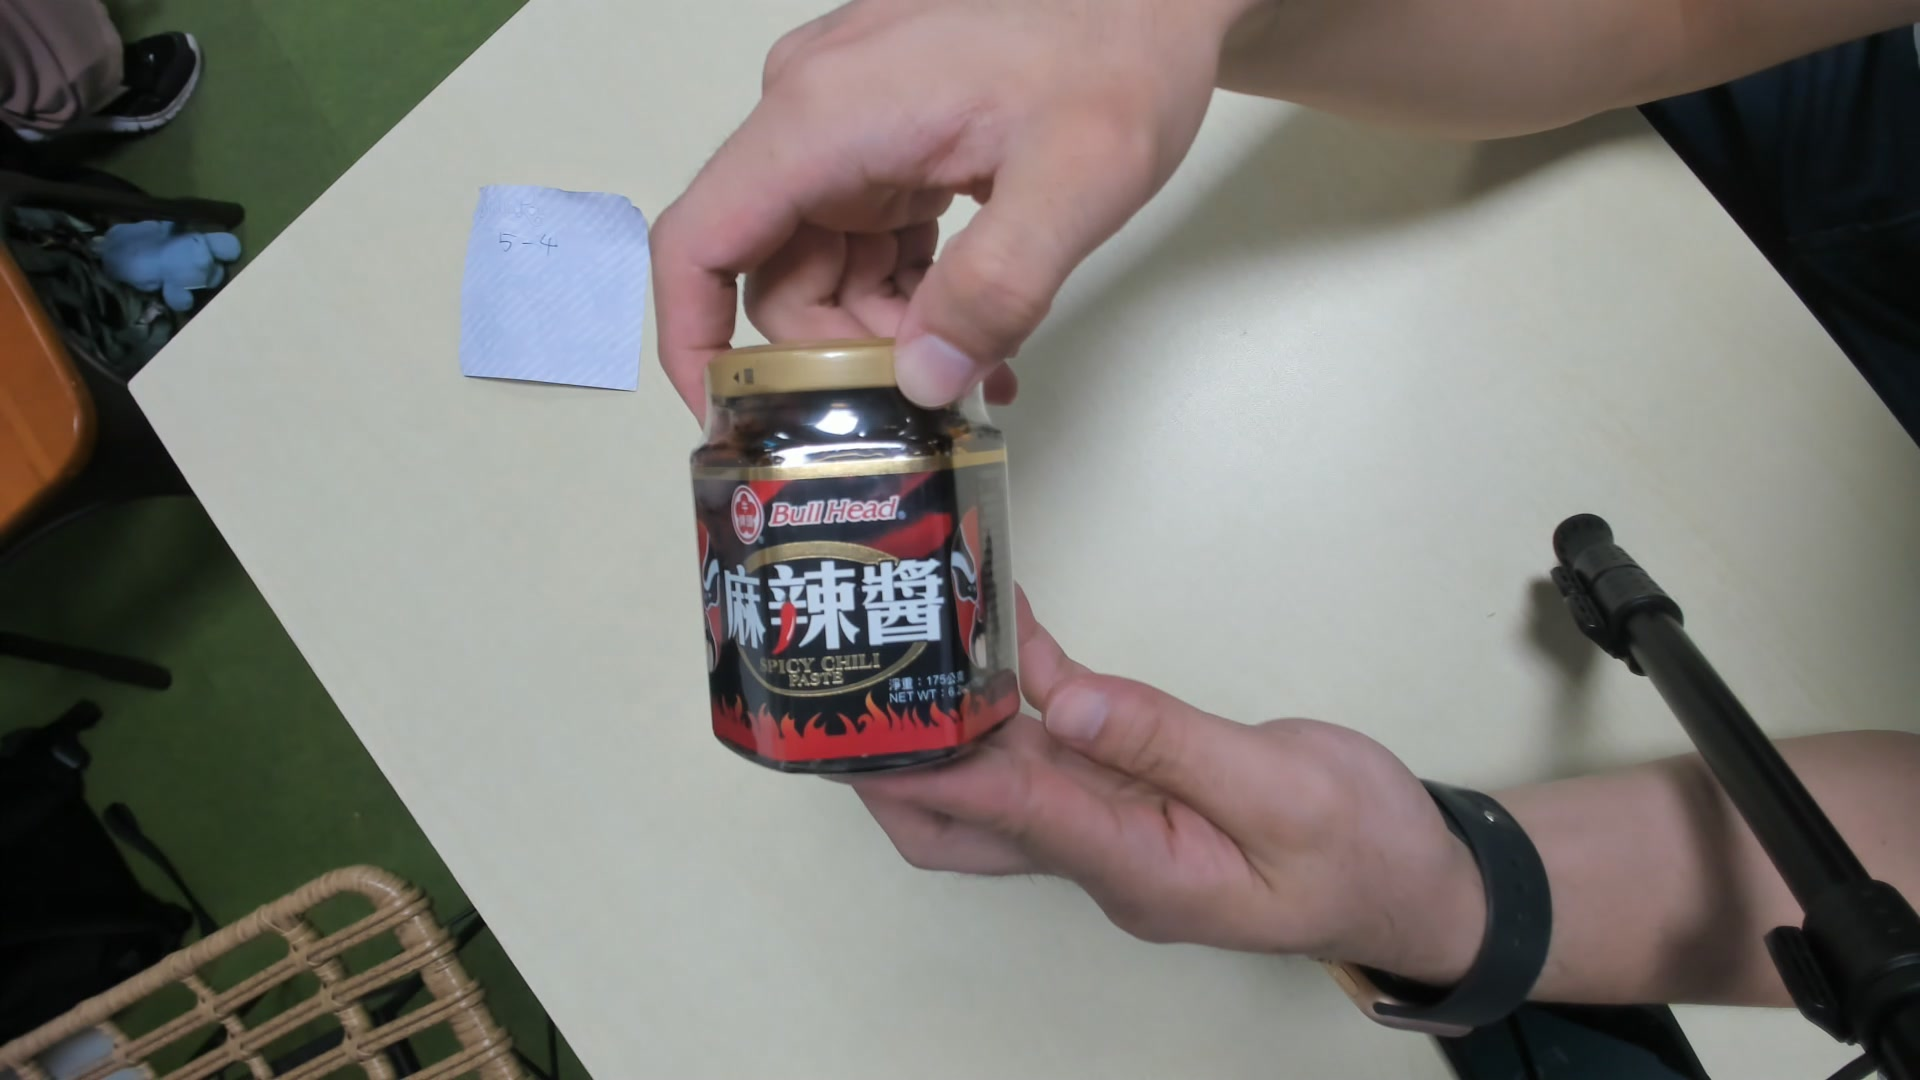OtherSauceDressing_100-199g_NonHalal_NonHealthy: (683, 345, 1025, 775)
